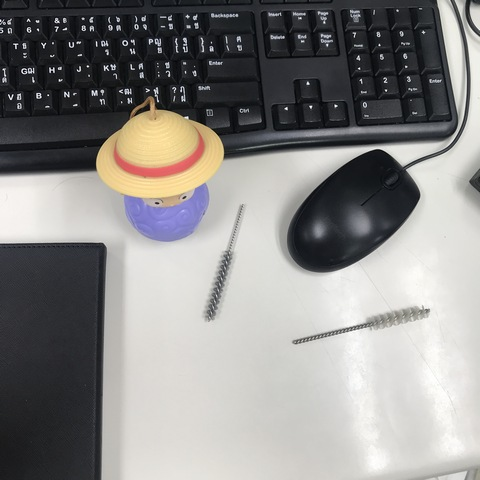Twist Brush-A: (203, 199, 245, 322)
Twist Brush-B: (283, 301, 440, 348)
